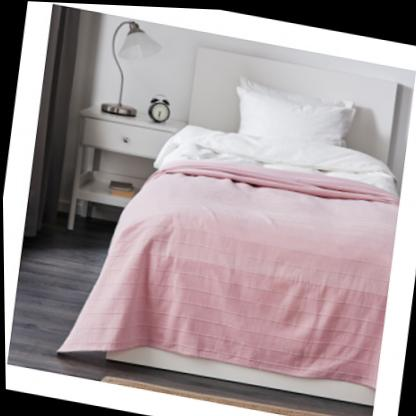Bed: (95, 28, 413, 411)
